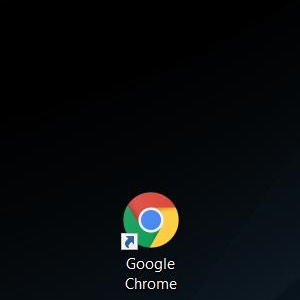chrome: (120, 192, 179, 250)
